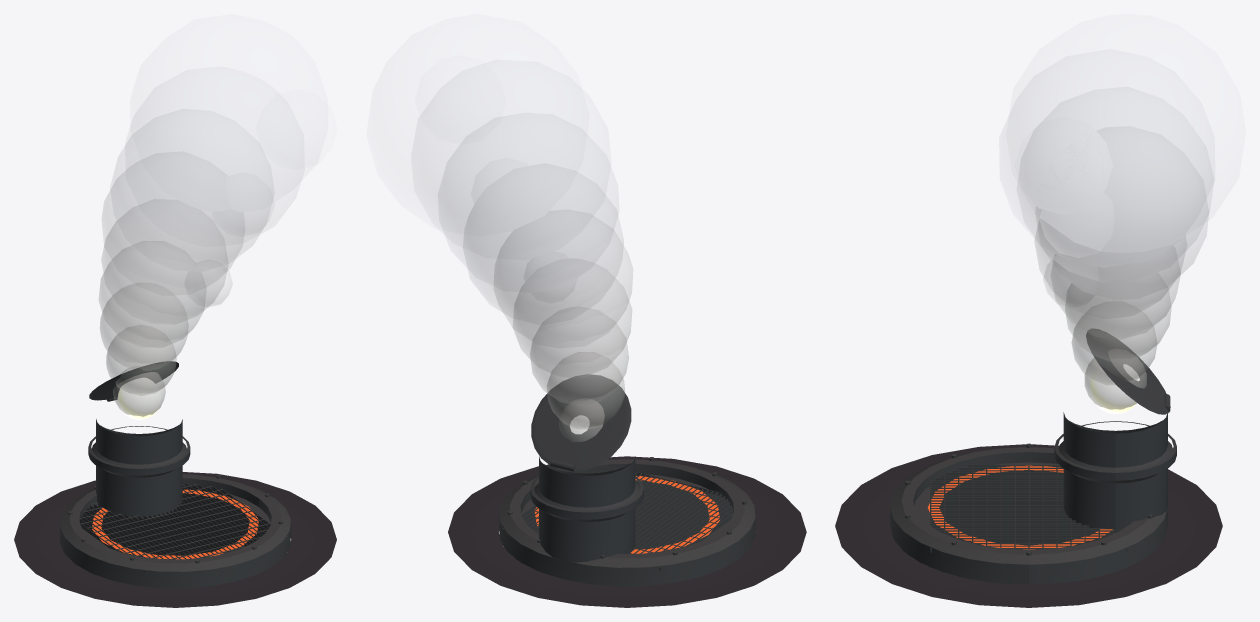
The model's file is foundry_dress_steamvent.glb.
3 views of the same model, side by side, from view 1: azimuth 30°, elevation 25°; view 2: azimuth 150°, elevation 25°; view 3: azimuth 270°, elevation 25° (orthographic). The views are drawn at different scales.
Visible parts, largest first — view 1: vent_scorch, vent_puff4, vent_collar, vent_puff3, vent_grate, vent_stack, vent_puff5, vent_puff2, vent_puff1, vent_puff0, vent_steam_core, vent_glow (+3 smaller); view 2: vent_scorch, vent_puff4, vent_puff5, vent_collar, vent_puff3, vent_stack, vent_puff2, vent_lid_plate, vent_grate, vent_puff1, vent_puff0, vent_stack_band (+1 smaller); view 3: vent_scorch, vent_collar, vent_grate, vent_stack, vent_puff4, vent_puff3, vent_puff2, vent_puff1, vent_puff5, vent_lid_plate, vent_puff0, vent_stack_band (+3 smaller).
Part boxes in pixels (<box>): vent_scorch: <box>14,472,336,607</box>; vent_puff4: <box>101,199,227,323</box>; vent_collar: <box>60,474,290,588</box>; vent_puff3: <box>99,241,205,347</box>; vent_grate: <box>63,483,287,574</box>; vent_stack: <box>92,419,186,518</box>; vent_puff5: <box>102,171,242,271</box>; vent_puff2: <box>100,283,188,370</box>; vent_puff1: <box>106,325,176,395</box>; vent_puff0: <box>113,366,165,416</box>; vent_steam_core: <box>117,378,160,419</box>; vent_glow: <box>92,489,258,559</box>; vent_scorch: <box>448,456,806,607</box>; vent_puff4: <box>494,210,632,343</box>; vent_puff5: <box>463,195,623,317</box>; vent_collar: <box>499,459,755,586</box>; vent_puff3: <box>513,259,631,377</box>; vent_stack: <box>534,456,639,562</box>; vent_puff2: <box>530,307,628,404</box>; vent_lid_plate: <box>531,374,631,471</box>; vent_grate: <box>503,469,751,570</box>; vent_puff1: <box>547,352,624,428</box>; vent_puff0: <box>559,399,604,442</box>; vent_stack_band: <box>530,465,643,519</box>; vent_scorch: <box>835,444,1222,607</box>; vent_collar: <box>890,447,1167,584</box>; vent_grate: <box>930,465,1127,552</box>; vent_stack: <box>1058,412,1172,530</box>; vent_puff4: <box>1034,221,1186,318</box>; vent_puff3: <box>1051,246,1180,339</box>; vent_puff2: <box>1065,273,1171,360</box>; vent_puff1: <box>1071,311,1157,384</box>; vent_puff5: <box>1041,214,1208,298</box>; vent_lid_plate: <box>1086,329,1170,414</box>; vent_puff0: <box>1084,349,1146,409</box>; vent_stack_band: <box>1054,421,1176,480</box>.
Bounding box in the file's own units: 3.06 × 4.25 × 2.84.
